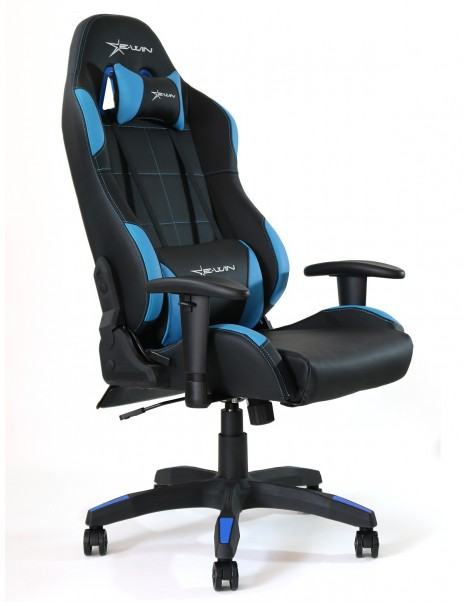chairs: (57, 14, 416, 596)
